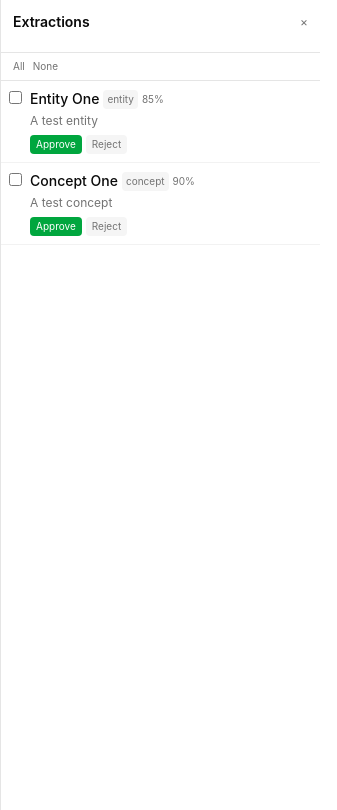
Scenario: ExtractionReview › selects all extractions
The image size is (337, 810).
Click the button "All": (19, 66) [13,59,25,74]
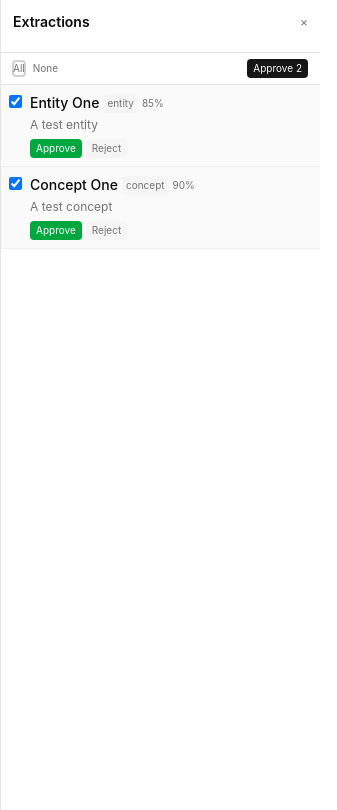
Expected: the checkbox next to "Entity One" is checked, [9,95,22,108]
Expected: the checkbox next to "Concept One" is checked, [9,177,22,190]
